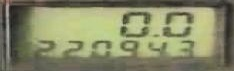-: (150, 32, 160, 37)
0: (159, 10, 191, 37), (117, 10, 148, 37), (88, 39, 110, 56)
2: (60, 39, 83, 57), (32, 39, 55, 57)
3: (175, 39, 194, 56)
4: (146, 40, 166, 56)
9: (117, 38, 138, 57)
